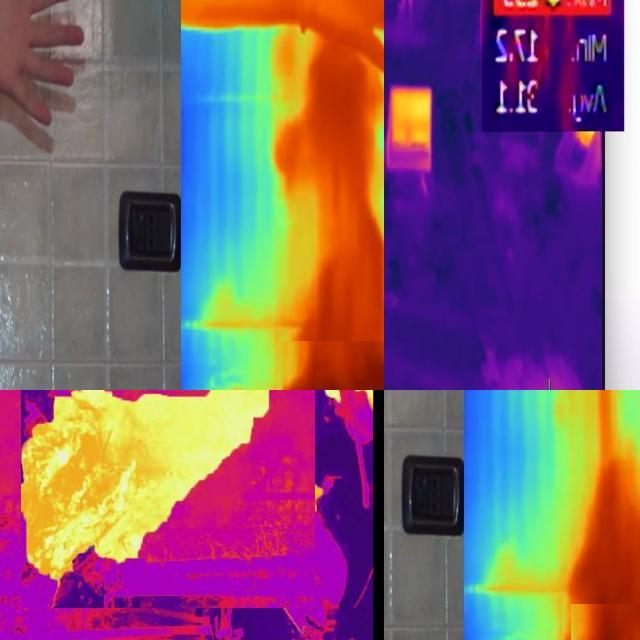fire: (22, 391, 316, 609), (583, 528, 640, 639), (277, 342, 385, 391)
